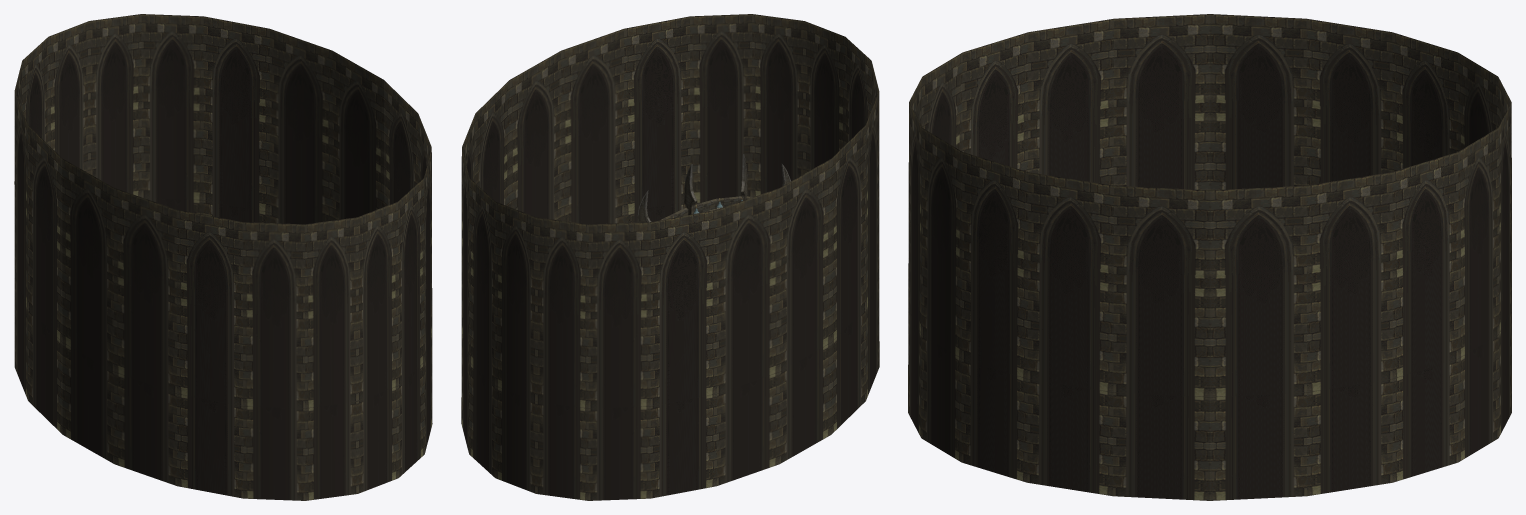
The model's file is Scene_bossroom02.FBX.
3 renders of one model, left to right at view 1: azimuth 30°, elevation 25°; view 2: azimuth 150°, elevation 25°; view 3: azimuth 270°, elevation 25°, orthographic. The views are drawn at different scales.
Parts seen in each view (by area): view 1: Scene_bossroom_a1; view 2: Scene_bossroom_a1; view 3: Scene_bossroom_a1.
Boxes of the visible parts, left/top/right/bottom form: Scene_bossroom_a1: left=14, top=14, right=432, bottom=500; Scene_bossroom_a1: left=461, top=14, right=879, bottom=500; Scene_bossroom_a1: left=908, top=14, right=1511, bottom=500.
Bounding box in the file's own units: 16679 × 15865 × 24119.
